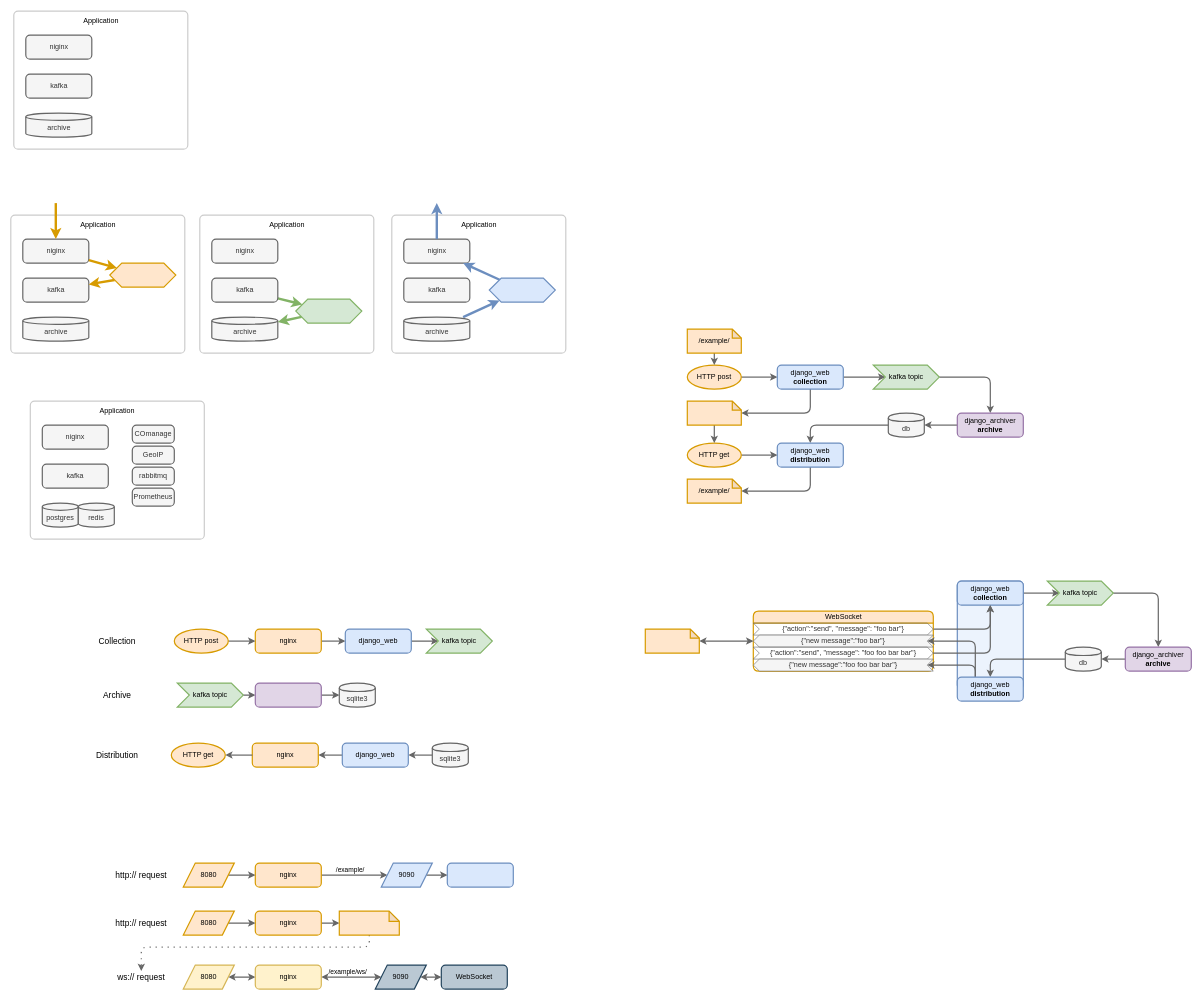
Image size: 1202x1000. Some labels were removed from this diagram. Here are the shapes that lost their labels. From the top down, the centre of each, then its label:
At (142,274): "collector".
At (522,289): "distributor".
At (328,310): "archiver".
At (714,412): "<redirect>".
At (672,640): "/ws-example/".
At (288,694): "django_archiver".
At (480,874): "HTTP".
At (369,922): "Static Page".
